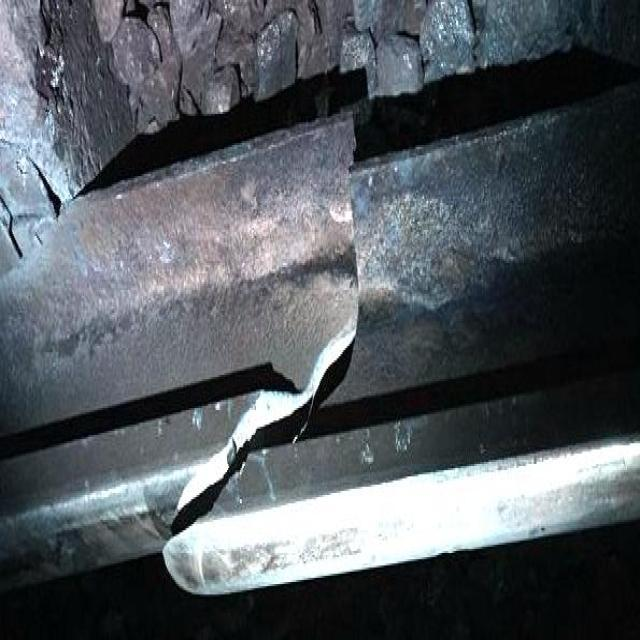broken_rail_high: (158, 138, 376, 589)
